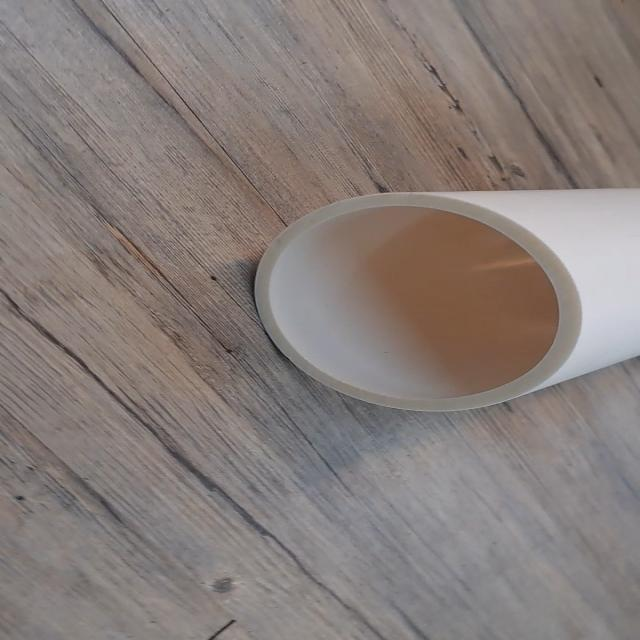CORAL: (231, 178, 640, 421)
